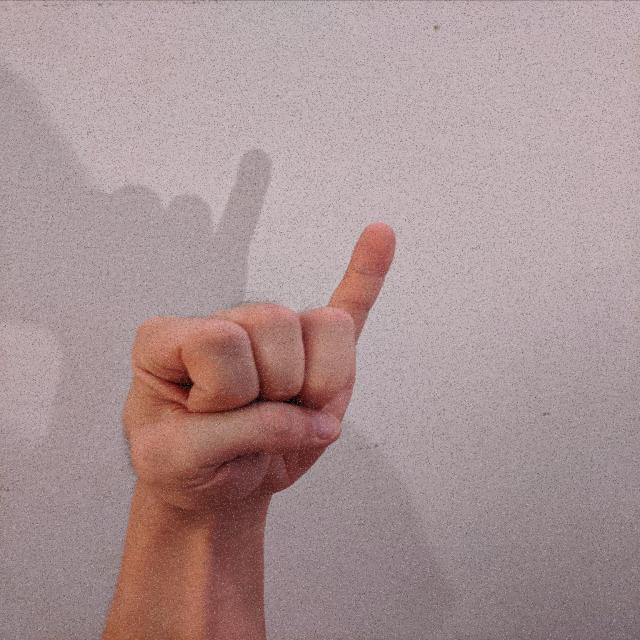I: (116, 218, 402, 512)
